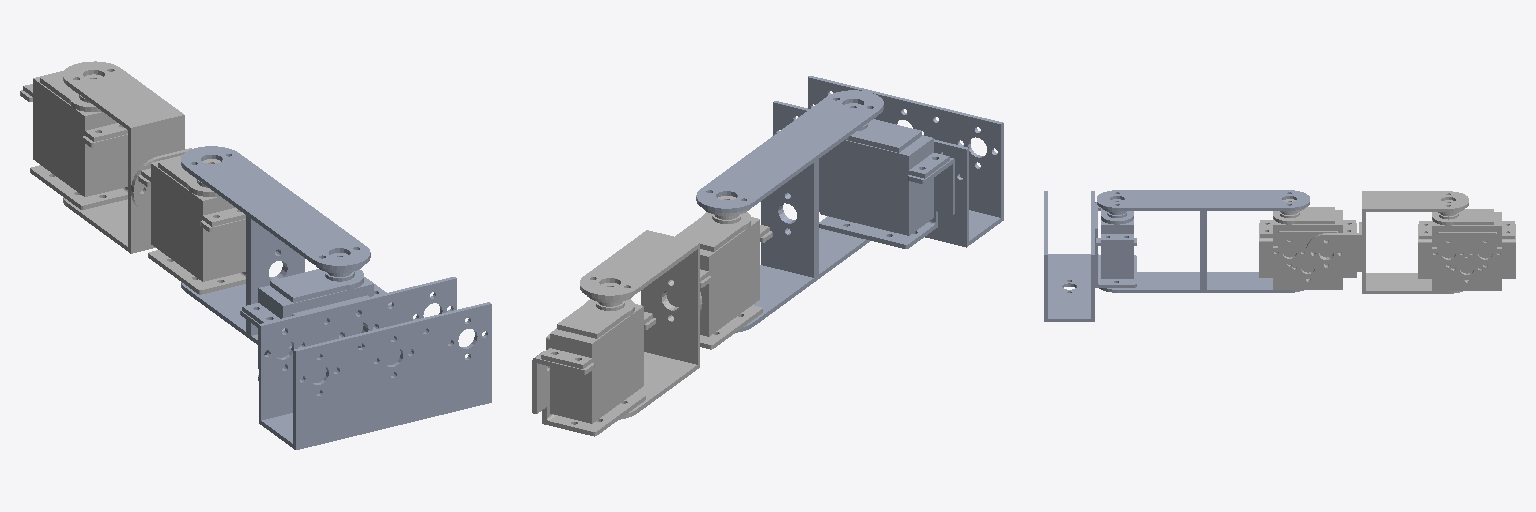
The robot description file, URDF, robot "my_3dof":
<?xml version="1.0" encoding="utf-8"?>
<!-- This URDF was automatically created by SolidWorks to URDF Exporter! Originally created by [author] ([email redacted]) 
     Commit Version: 1.6.0-1-g15f4949  Build Version: 1.6.7594.29634
     For more information, please see http://wiki.ros.org/sw_urdf_exporter -->
<robot
  name="my_3dof">
  <link
    name="base_link">
    <inertial>
      <origin
        xyz="-0.0071002 0.018342 0.02437"
        rpy="0 0 0" />
      <mass
        value="0.05861" />
      <inertia
        ixx="1.3349E-05"
        ixy="3.4361E-21"
        ixz="-7.2718E-08"
        iyy="2.87E-05"
        iyz="1.5817E-07"
        izz="2.4567E-05" />
    </inertial>
    <visual>
      <origin
        xyz="0 0 0"
        rpy="0 0 0" />
      <geometry>
        <mesh
          filename="package://my_3dof/meshes/base_link.STL" />
      </geometry>
      <material
        name="">
        <color
          rgba="0.66667 0.69804 0.76863 1" />
      </material>
    </visual>
    <collision>
      <origin
        xyz="0 0 0"
        rpy="0 0 0" />
      <geometry>
        <mesh
          filename="package://my_3dof/meshes/base_link.STL" />
      </geometry>
    </collision>
  </link>
  <link
    name="link_one">
    <inertial>
      <origin
        xyz="-2.5119E-15 0.0515 -0.02475"
        rpy="0 0 0" />
      <mass
        value="0.01653" />
      <inertia
        ixx="1.608E-05"
        ixy="3.9461E-21"
        ixz="-9.575E-21"
        iyy="1.053E-05"
        iyz="-9.5402E-20"
        izz="7.2959E-06" />
    </inertial>
    <visual>
      <origin
        xyz="0 0 0"
        rpy="0 0 0" />
      <geometry>
        <mesh
          filename="package://my_3dof/meshes/link_one.STL" />
      </geometry>
      <material
        name="">
        <color
          rgba="0.66667 0.69804 0.76863 1" />
      </material>
    </visual>
    <collision>
      <origin
        xyz="0 0 0"
        rpy="0 0 0" />
      <geometry>
        <mesh
          filename="package://my_3dof/meshes/link_one.STL" />
      </geometry>
    </collision>
  </link>
  <joint
    name="joint_one"
    type="revolute">
    <origin
      xyz="-3.003E-05 0.0285 0.05545"
      rpy="0 0 0" />
    <parent
      link="base_link" />
    <child
      link="link_one" />
    <axis
      xyz="0 0 -1" />
    <limit
      lower="-1.5708"
      upper="1.5708"
      effort="0.8826"
      velocity="5.236" />
  </joint>
  <link
    name="link_two">
    <inertial>
      <origin
        xyz="0.0012756 0.020682 -0.026415"
        rpy="0 0 0" />
      <mass
        value="0.049807" />
      <inertia
        ixx="1.9795E-05"
        ixy="1.0073E-07"
        ixz="-1.5817E-07"
        iyy="1.1806E-05"
        iyz="7.2718E-08"
        izz="1.2001E-05" />
    </inertial>
    <visual>
      <origin
        xyz="0 0 0"
        rpy="0 0 0" />
      <geometry>
        <mesh
          filename="package://my_3dof/meshes/link_two.STL" />
      </geometry>
      <material
        name="">
        <color
          rgba="0.75294 0.75294 0.75294 1" />
      </material>
    </visual>
    <collision>
      <origin
        xyz="0 0 0"
        rpy="0 0 0" />
      <geometry>
        <mesh
          filename="package://my_3dof/meshes/link_two.STL" />
      </geometry>
    </collision>
  </link>
  <joint
    name="joint_two"
    type="revolute">
    <origin
      xyz="0 0.103 0"
      rpy="0 0 0" />
    <parent
      link="link_one" />
    <child
      link="link_two" />
    <axis
      xyz="0 0 1" />
    <limit
      lower="-1.5708"
      upper="1.5708"
      effort="0.8826"
      velocity="5.236" />
  </joint>
  <link
    name="link_three">
    <inertial>
      <origin
        xyz="0.0010603 0.010592 -0.026677"
        rpy="0 0 0" />
      <mass
        value="0.039177" />
      <inertia
        ixx="1.1393E-05"
        ixy="-4.7694E-21"
        ixz="-1.5817E-07"
        iyy="6.2722E-06"
        iyz="7.2718E-08"
        izz="7.9717E-06" />
    </inertial>
    <visual>
      <origin
        xyz="0 0 0"
        rpy="0 0 0" />
      <geometry>
        <mesh
          filename="package://my_3dof/meshes/link_three.STL" />
      </geometry>
      <material
        name="">
        <color
          rgba="0.75294 0.75294 0.75294 1" />
      </material>
    </visual>
    <collision>
      <origin
        xyz="0 0 0"
        rpy="0 0 0" />
      <geometry>
        <mesh
          filename="package://my_3dof/meshes/link_three.STL" />
      </geometry>
    </collision>
  </link>
  <joint
    name="joint_three"
    type="revolute">
    <origin
      xyz="0 0.09497 -0.0007"
      rpy="0 0 0" />
    <parent
      link="link_two" />
    <child
      link="link_three" />
    <axis
      xyz="0 0 1" />
    <limit
      lower="-1.5708"
      upper="1.5708"
      effort="0.8826"
      velocity="5.236" />
  </joint>
</robot>

--- Render facts (derived) ---
The picture shows the robot from 3 angles, left to right: view 1: azimuth 30°, elevation 25°; view 2: azimuth 150°, elevation 25°; view 3: azimuth 270°, elevation 25°; orthographic projection.
Model my_3dof with 4 links and 3 joints (3 revolute), rooted at base_link, posed all joints at 0.
Visible links, largest first — view 1: base_link, link_two, link_one, link_three; view 2: base_link, link_two, link_one, link_three; view 3: link_two, link_one, link_three, base_link.
Link boxes in pixels (<box>): base_link: <box>240,253,491,449</box>; link_two: <box>63,61,245,294</box>; link_one: <box>181,146,370,344</box>; link_three: <box>20,70,127,209</box>; base_link: <box>773,76,1003,248</box>; link_two: <box>580,196,772,419</box>; link_one: <box>696,90,883,332</box>; link_three: <box>532,283,655,436</box>; link_two: <box>1259,191,1468,293</box>; link_one: <box>1097,190,1309,292</box>; link_three: <box>1418,200,1515,290</box>; base_link: <box>1044,191,1136,321</box>.
Bounding box of the posed robot: 0.091 × 0.2814 × 0.0597 m (x, y, z).
Meshes: 4 distinct files referenced, 4 mesh visuals loaded (4 binary STL).